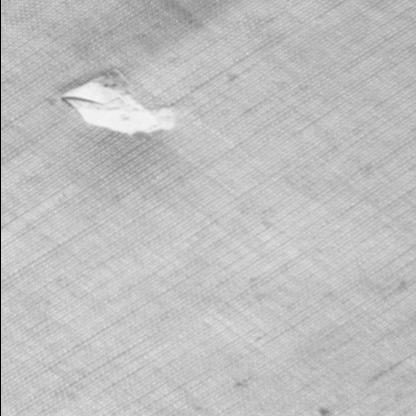objects: (56, 67, 176, 137)
